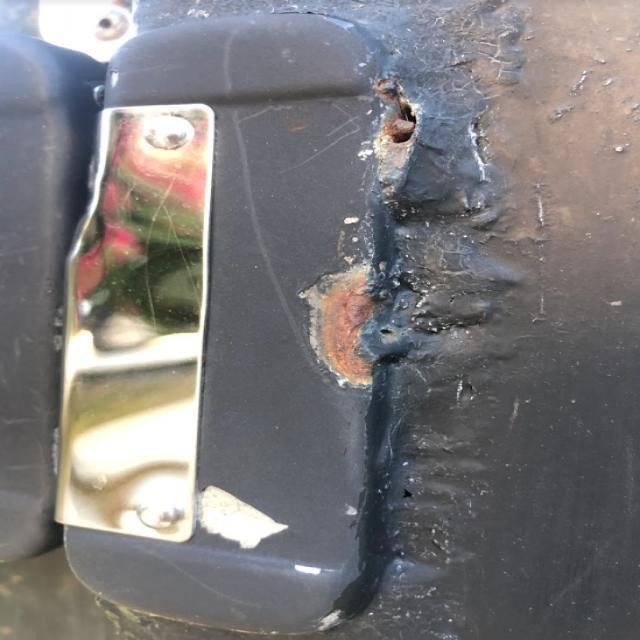Corrosion: (311, 265, 382, 387)
